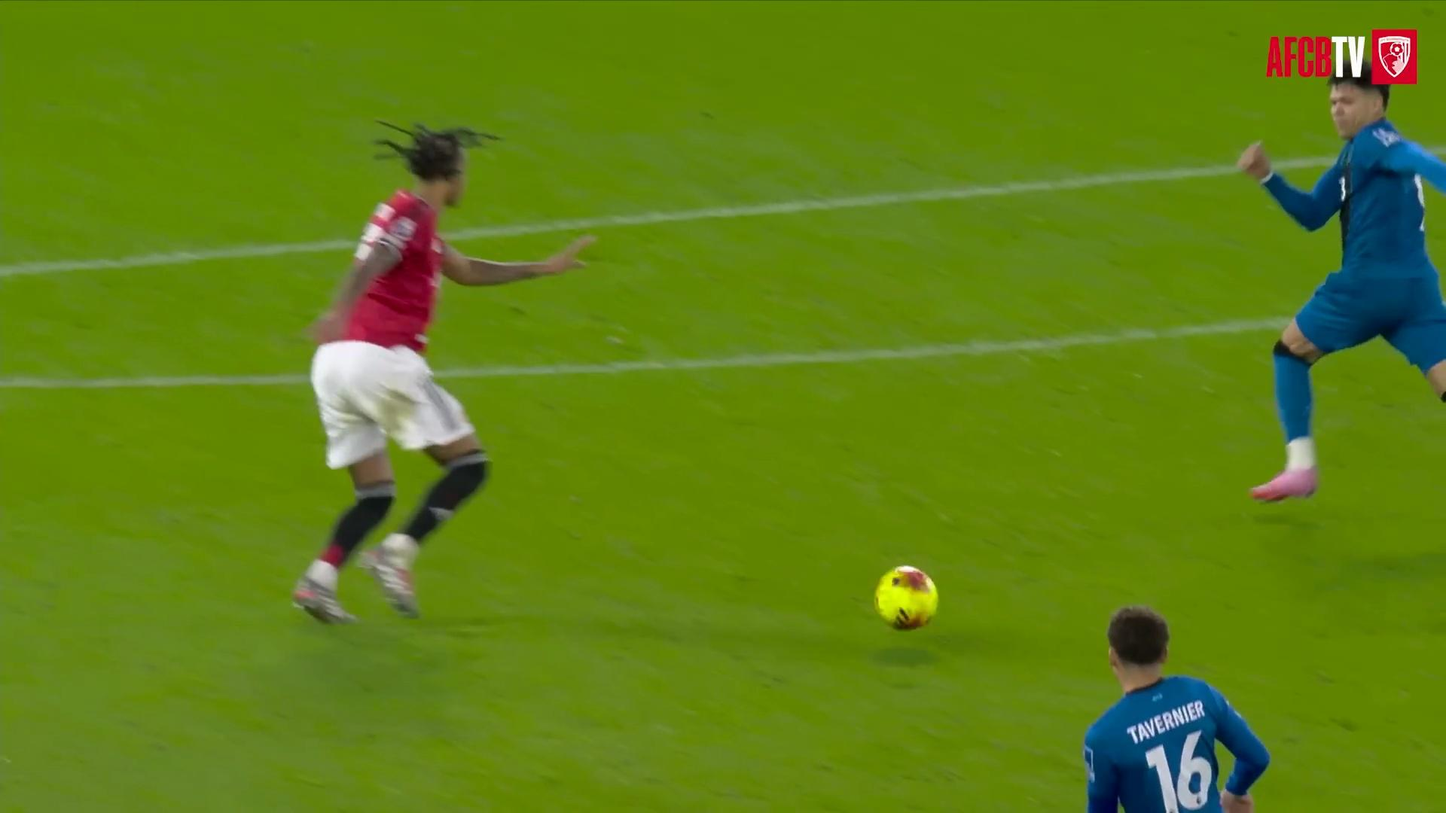football: (874, 566, 938, 629)
player: (293, 125, 592, 622), (1238, 65, 1445, 501), (1084, 606, 1269, 812)
